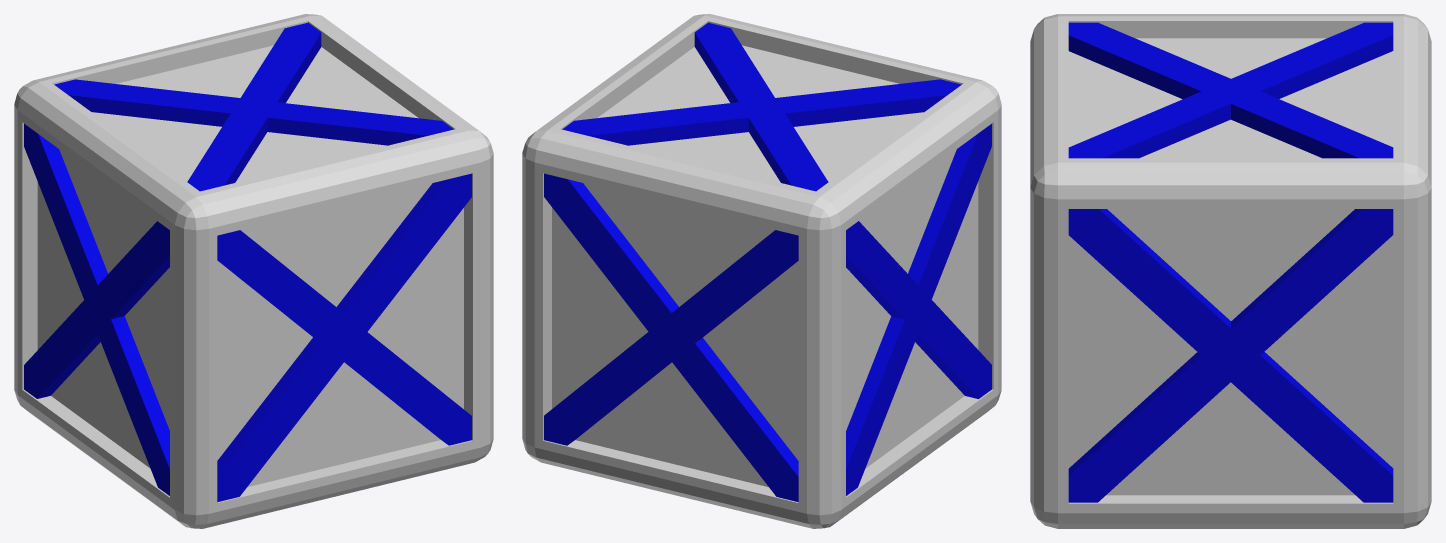
Rendered from crate2.fbx.
3 views of the same model, side by side, from view 1: azimuth 30°, elevation 25°; view 2: azimuth 150°, elevation 25°; view 3: azimuth 270°, elevation 25° (orthographic). The views are drawn at different scales.
Parts seen in each view (by area): view 1: Cube, Plank, Plank.005, Plank.001; view 2: Cube, Plank.002, Plank.005, Plank.001; view 3: Cube, Plank.003, Plank.001.
Boxes of the visible parts, x1=… form: Cube: x1=14, y1=14, x2=493, y2=528; Plank: x1=217, y1=173, x2=471, y2=502; Plank.005: x1=24, y1=123, x2=169, y2=495; Plank.001: x1=54, y1=22, x2=453, y2=191; Cube: x1=522, y1=14, x2=1001, y2=528; Plank.002: x1=544, y1=173, x2=798, y2=502; Plank.005: x1=846, y1=123, x2=991, y2=495; Plank.001: x1=562, y1=22, x2=961, y2=191; Cube: x1=1030, y1=14, x2=1431, y2=528; Plank.003: x1=1068, y1=209, x2=1393, y2=502; Plank.001: x1=1068, y1=22, x2=1393, y2=158.
Size of the model in its own units: 201 by 201 by 201.
